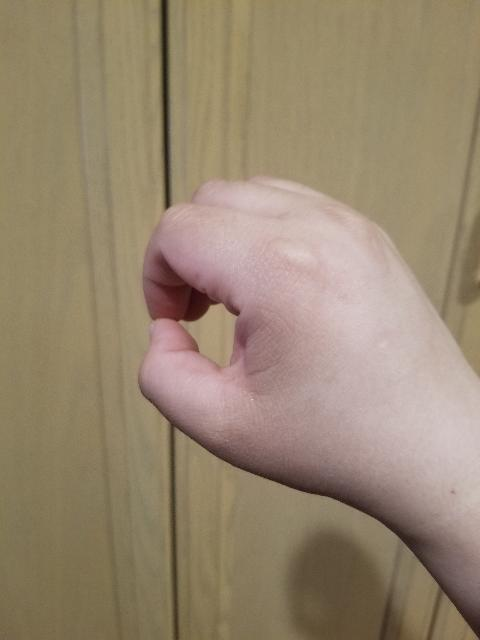O: (130, 170, 480, 514)
